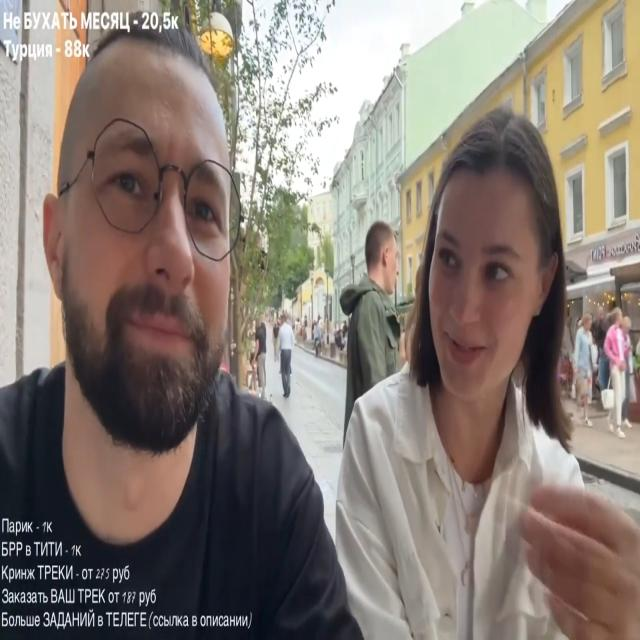Person: (0, 29, 360, 640), (326, 104, 632, 639), (341, 224, 406, 417), (600, 311, 633, 435), (572, 316, 599, 416), (276, 314, 295, 395), (312, 322, 322, 355)
